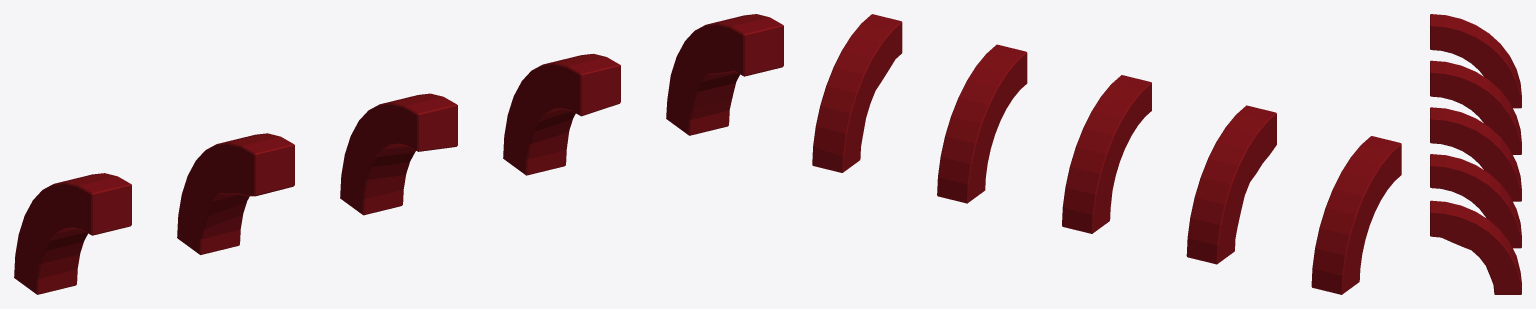
File: SM_MH_01_Wood_Frame_04.fbx
3 views of the same model, side by side, from view 1: azimuth 30°, elevation 25°; view 2: azimuth 150°, elevation 25°; view 3: azimuth 270°, elevation 25° (orthographic). The views are drawn at different scales.
Parts seen in each view (by area): view 1: SM_MH_01_Wood_Frame_04_LOD0; view 2: SM_MH_01_Wood_Frame_04_LOD0; view 3: SM_MH_01_Wood_Frame_04_LOD0.
Part boxes in pixels (x1,y1,x2,y2): SM_MH_01_Wood_Frame_04_LOD0: (14,14,783,294); SM_MH_01_Wood_Frame_04_LOD0: (812,14,1401,294); SM_MH_01_Wood_Frame_04_LOD0: (1430,14,1521,294).
Size of what is drawn, in the model's own units: 255 by 49.96 by 49.96.
